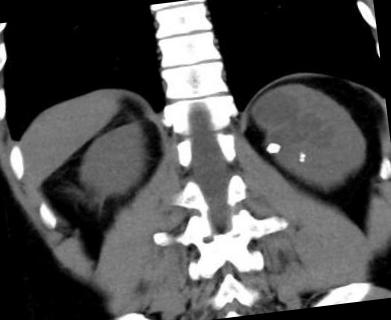Tas_Var: (261, 138, 284, 156), (297, 152, 309, 158), (298, 157, 306, 163)
